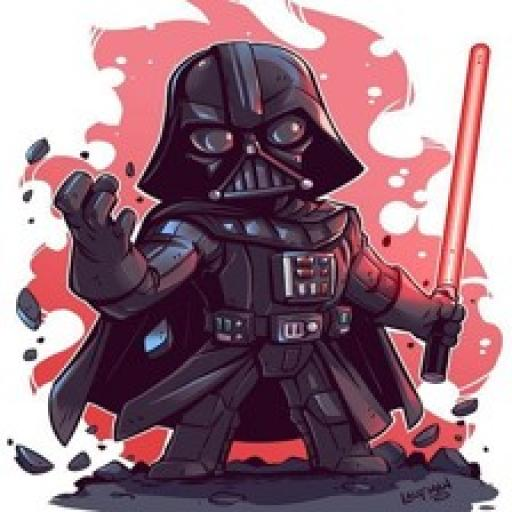sith saber: (422, 40, 493, 390)
